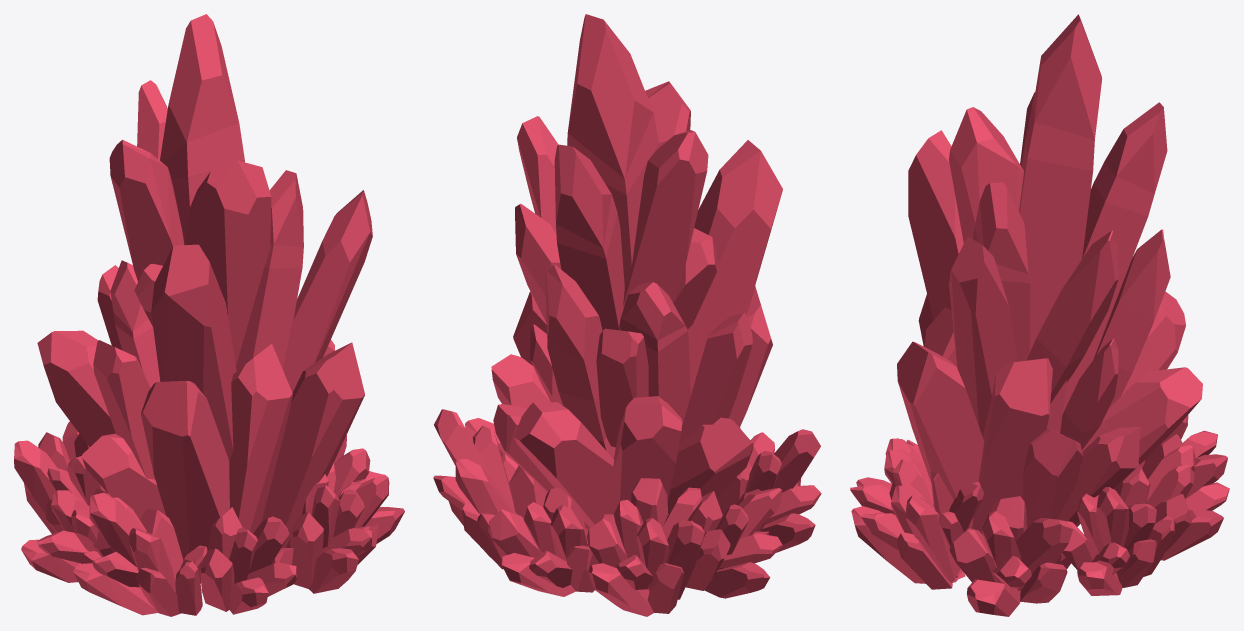
The model's file is SM_Crystal_Big_2.fbx.
3 renders of one model, left to right at view 1: azimuth 30°, elevation 25°; view 2: azimuth 150°, elevation 25°; view 3: azimuth 270°, elevation 25°, orthographic. The views are drawn at different scales.
Visible parts, largest first — view 1: SM_Crystal_Big_2; view 2: SM_Crystal_Big_2; view 3: SM_Crystal_Big_2.
Boxes of the visible parts, x1=… form: SM_Crystal_Big_2: x1=14, y1=14, x2=404, y2=616; SM_Crystal_Big_2: x1=433, y1=14, x2=821, y2=616; SM_Crystal_Big_2: x1=850, y1=14, x2=1229, y2=616.
Bounding box in the file's own units: 601 × 937 × 594.
